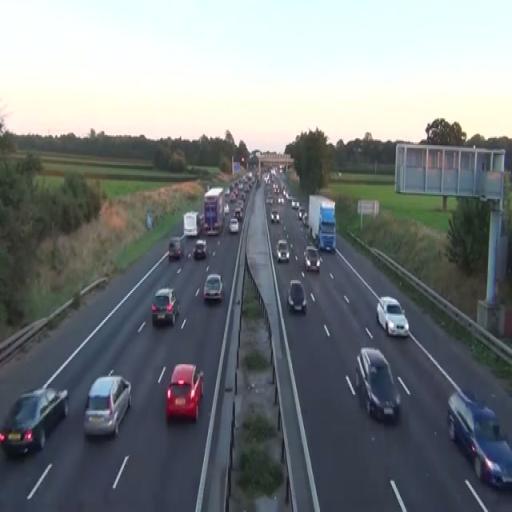Bus: (204, 188, 224, 236)
Car: (446, 386, 512, 490), (0, 386, 70, 457), (355, 347, 401, 424), (83, 375, 132, 437), (166, 363, 203, 422), (376, 296, 410, 338), (151, 286, 180, 326), (288, 280, 306, 314), (203, 273, 224, 302), (304, 245, 322, 273), (276, 239, 290, 263), (193, 240, 207, 261)
Truck: (308, 194, 336, 251)
